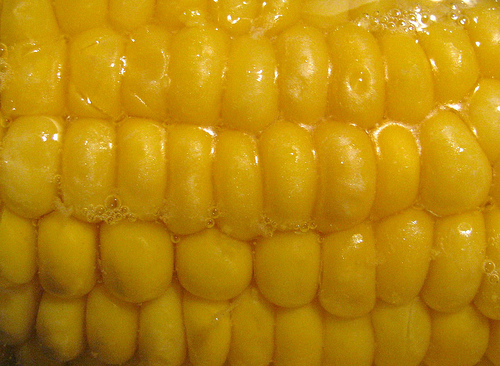corn: (0, 0, 499, 364)
